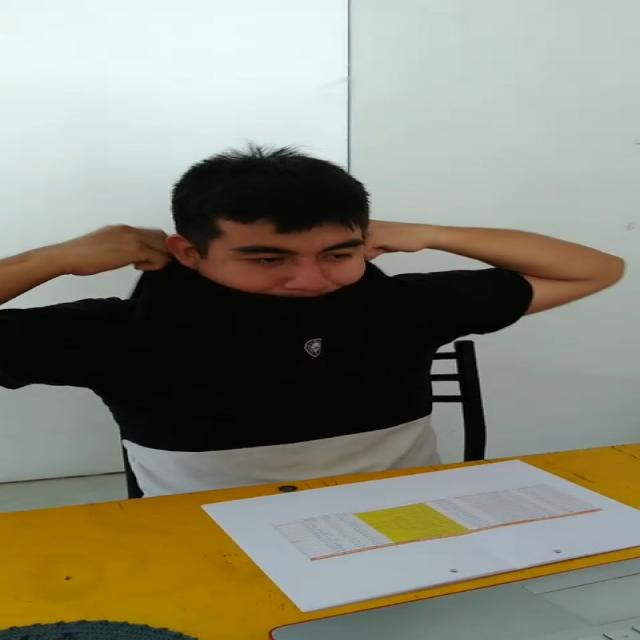8_ropa_rostro: (171, 266, 409, 352)
